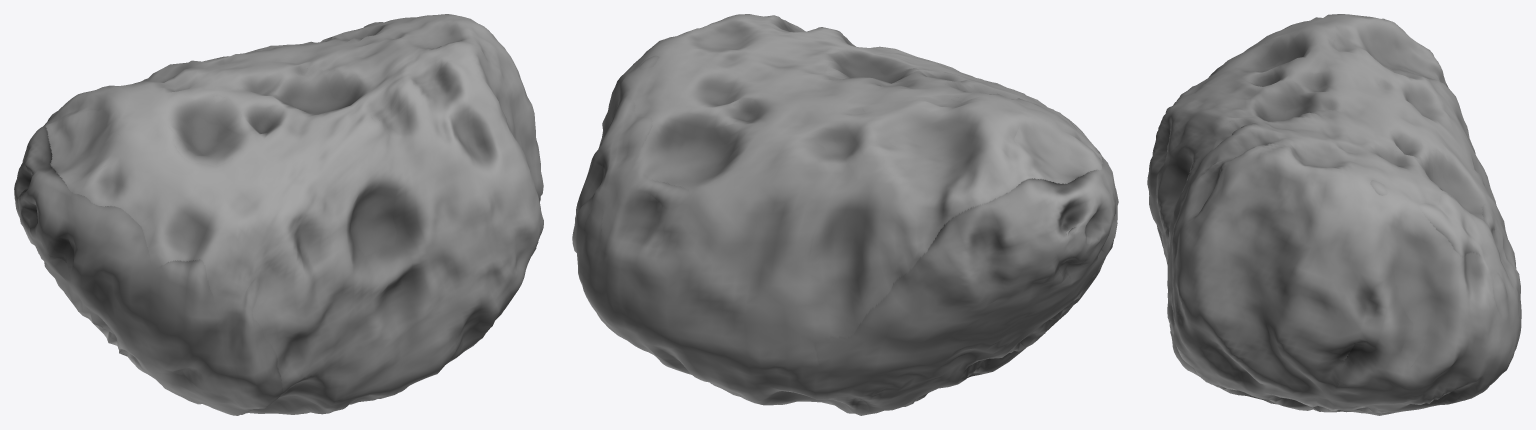
Rendered from asteroids2.obj.
3 renders of one model, left to right at view 1: azimuth 30°, elevation 25°; view 2: azimuth 150°, elevation 25°; view 3: azimuth 270°, elevation 25°, orthographic. The views are drawn at different scales.
Parts seen in each view (by area): view 1: asteroid2Baked_Cube.003; view 2: asteroid2Baked_Cube.003; view 3: asteroid2Baked_Cube.003.
Part boxes in pixels (<box>): asteroid2Baked_Cube.003: <box>14,14,543,415</box>; asteroid2Baked_Cube.003: <box>572,14,1118,415</box>; asteroid2Baked_Cube.003: <box>1147,14,1521,415</box>.
Size of the model in its own units: 2.12 by 1.35 by 1.5.
